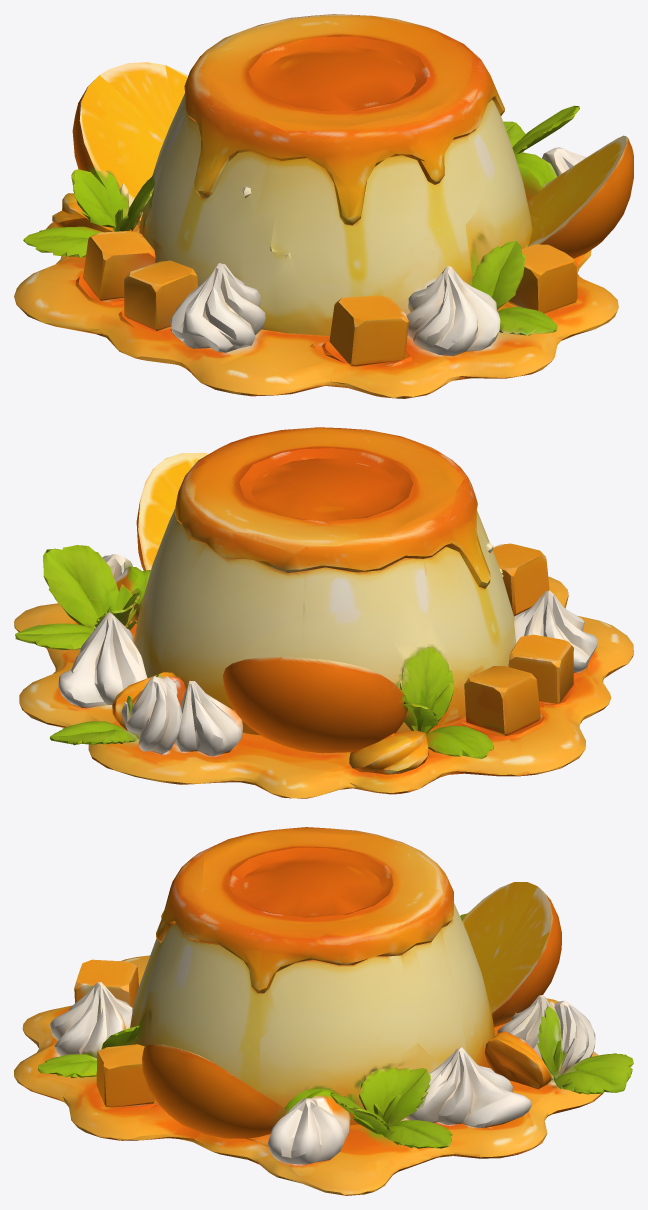
The model's file is Web_Pudding_Orange.fbx.
3 renders of one model, top to bottom at view 1: azimuth 30°, elevation 25°; view 2: azimuth 150°, elevation 25°; view 3: azimuth 270°, elevation 25°, orthographic. The views are drawn at different scales.
Visible parts, largest first — view 1: node_0; view 2: node_0; view 3: node_0.
Part boxes in pixels (<box>): node_0: <box>14,14,633,398</box>; node_0: <box>14,427,633,798</box>; node_0: <box>14,827,633,1195</box>.
Bounding box in the file's own units: 82.69 × 27.55 × 82.16.
Materials: 1 (1 with a texture image).
